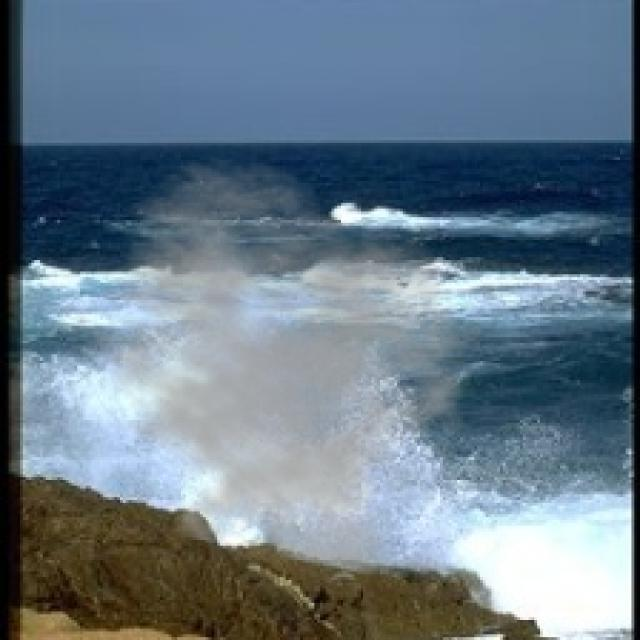Smoke: (62, 154, 488, 577)
